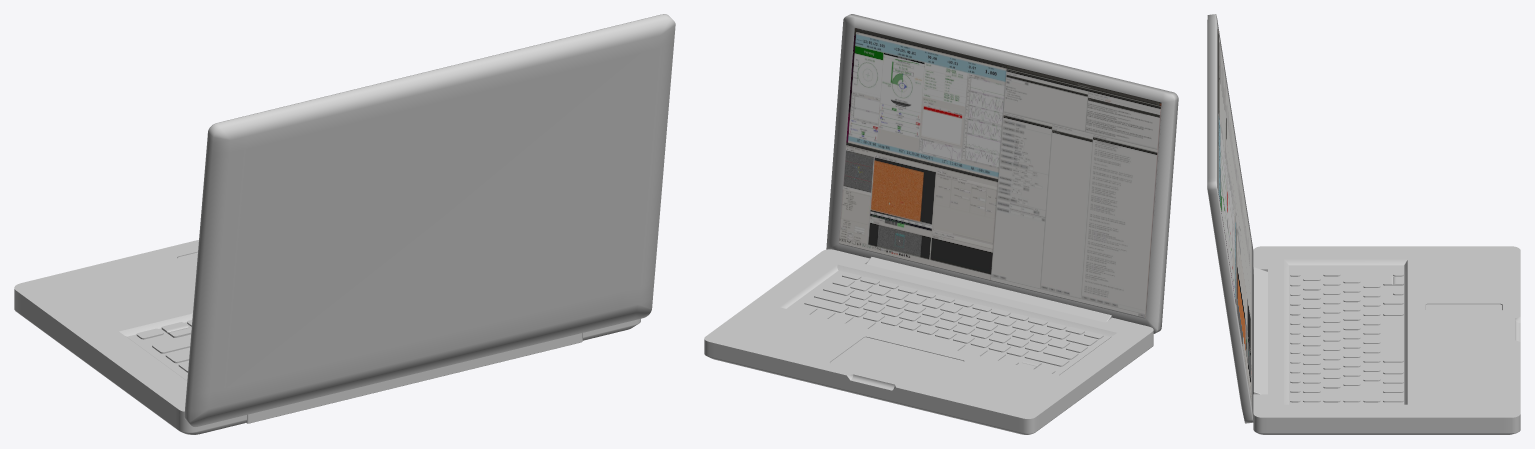
The model's file is telsim.glb.
3 renders of one model, left to right at view 1: azimuth 30°, elevation 25°; view 2: azimuth 150°, elevation 25°; view 3: azimuth 270°, elevation 25°, orthographic. The views are drawn at different scales.
Visible parts, largest first — view 1: Cube.002_Cube.009, Cube.004, Cube.007_Cube.005, Cube.001, Cube.035, Cube.005_Cube.006; view 2: Cube.004, Cube.007_Cube.005, Cube.005_Cube.006, Cube.001, Cube.035; view 3: Cube.007_Cube.005, Cube.005_Cube.006, Cube.004, Cube.035, Cube.001.
Boxes of the visible parts, x1,y1,x2,y2 form: Cube.002_Cube.009: (226, 52, 642, 387); Cube.004: (184, 14, 675, 426); Cube.007_Cube.005: (14, 240, 640, 434); Cube.001: (246, 333, 582, 423); Cube.035: (91, 334, 186, 396); Cube.005_Cube.006: (136, 320, 192, 372); Cube.004: (826, 14, 1178, 333); Cube.007_Cube.005: (704, 249, 1153, 434); Cube.005_Cube.006: (794, 272, 1103, 373); Cube.001: (866, 257, 1111, 322); Cube.035: (759, 260, 1137, 379); Cube.007_Cube.005: (1253, 246, 1520, 434); Cube.005_Cube.006: (1290, 267, 1403, 402); Cube.004: (1207, 14, 1253, 423); Cube.035: (1288, 247, 1403, 416); Cube.001: (1253, 267, 1267, 394).
Bounding box in the file's own units: 0.3669 × 0.2524 × 0.2826.
10 materials, 1 textured.
